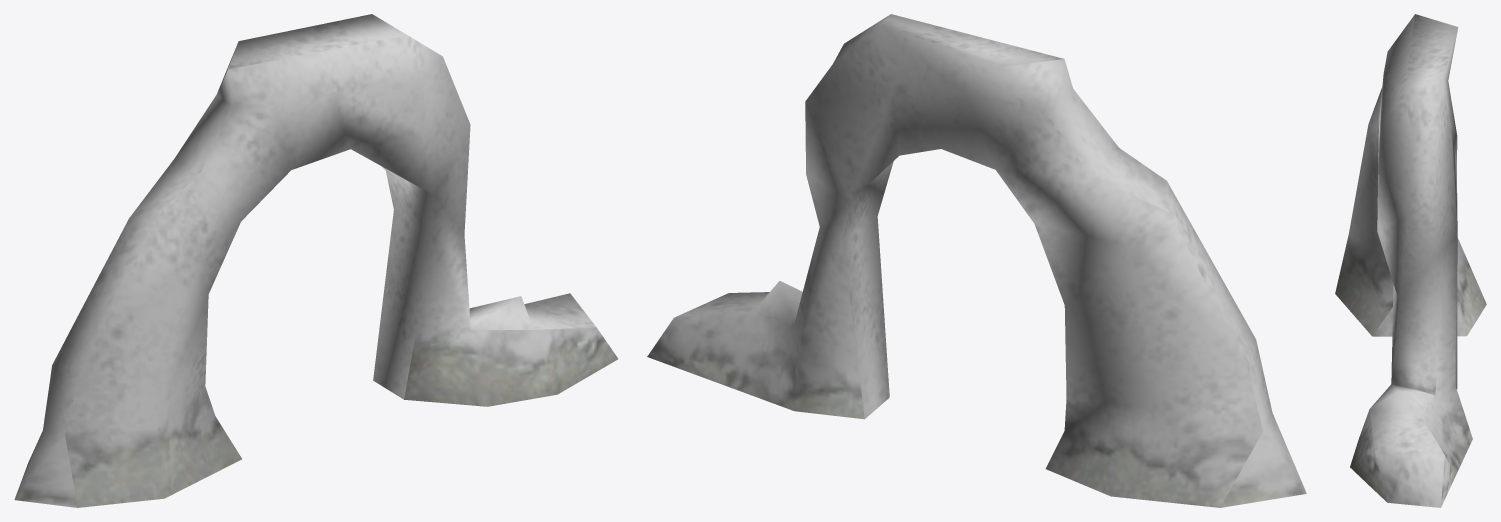
Rendered from general_obj_stone15.fbx.
3 renders of one model, left to right at view 1: azimuth 30°, elevation 25°; view 2: azimuth 150°, elevation 25°; view 3: azimuth 270°, elevation 25°, orthographic. The views are drawn at different scales.
Visible parts, largest first — view 1: Sphere01; view 2: Sphere01; view 3: Sphere01.
Boxes of the visible parts, x1,y1,x2,y2 form: Sphere01: (14, 14, 618, 507); Sphere01: (647, 14, 1306, 507); Sphere01: (1335, 14, 1486, 507).
Size of the model in its own units: 12.87 by 7.55 by 3.14.
